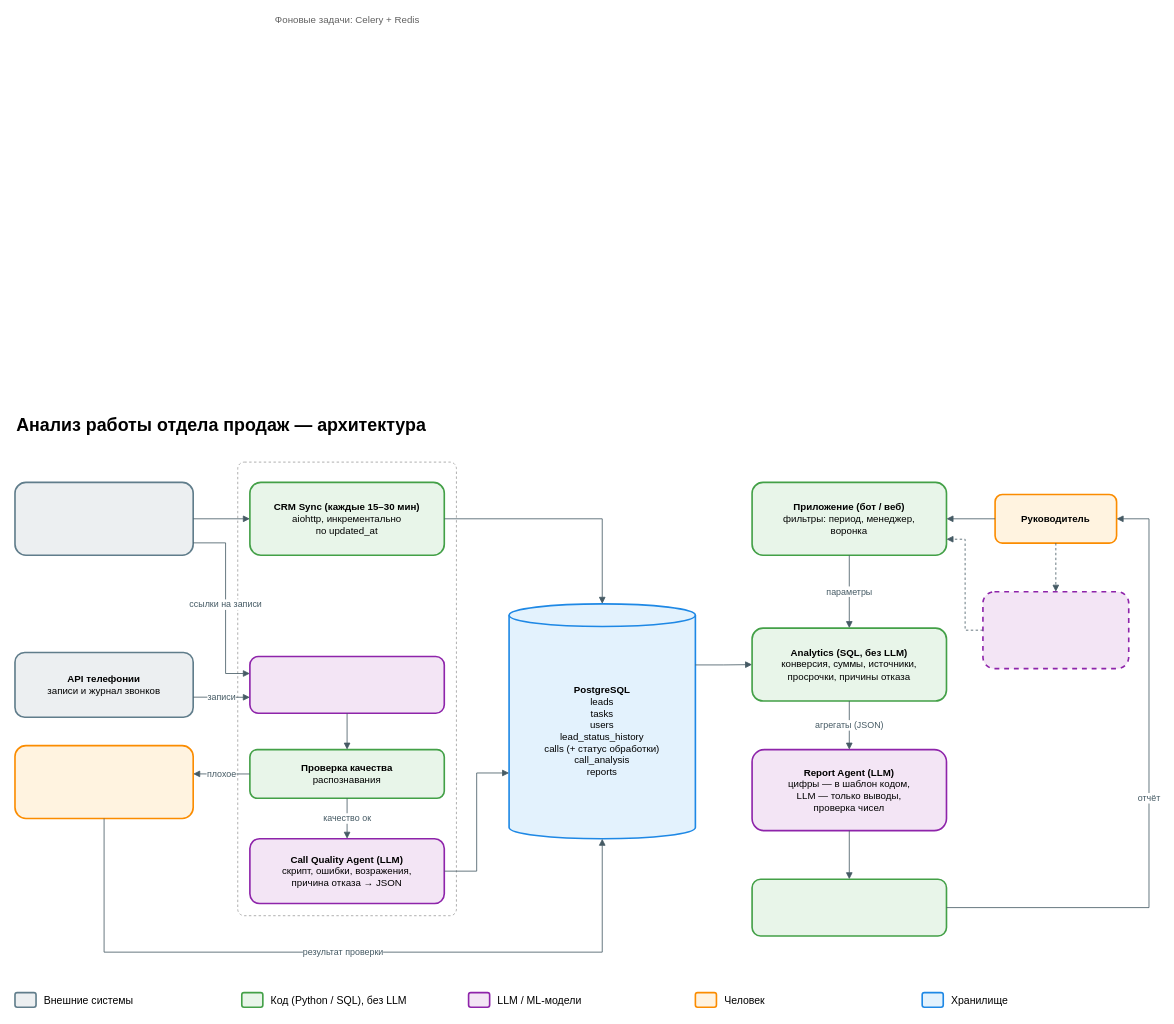
The diagram is 1174 pixels wide and 1024 high, and some of its shapes have lost their labels. Each missing label, with the box of its shape:
amoCRM API v4 сделки, задачи, события, примечания о звонках: (14, 481, 194, 556)
Speech-to-Text (ежедневно) Whisper / SpeechKit: (249, 655, 445, 714)
Опционально: свободный текст → LLM → параметры фильтров: (982, 590, 1129, 669)
Отчёт (HTML / PDF) по отделу и по менеджерам: (751, 878, 947, 936)
Ручная проверка сотрудник слушает запись и заполняет ту же форму: (14, 744, 194, 819)
